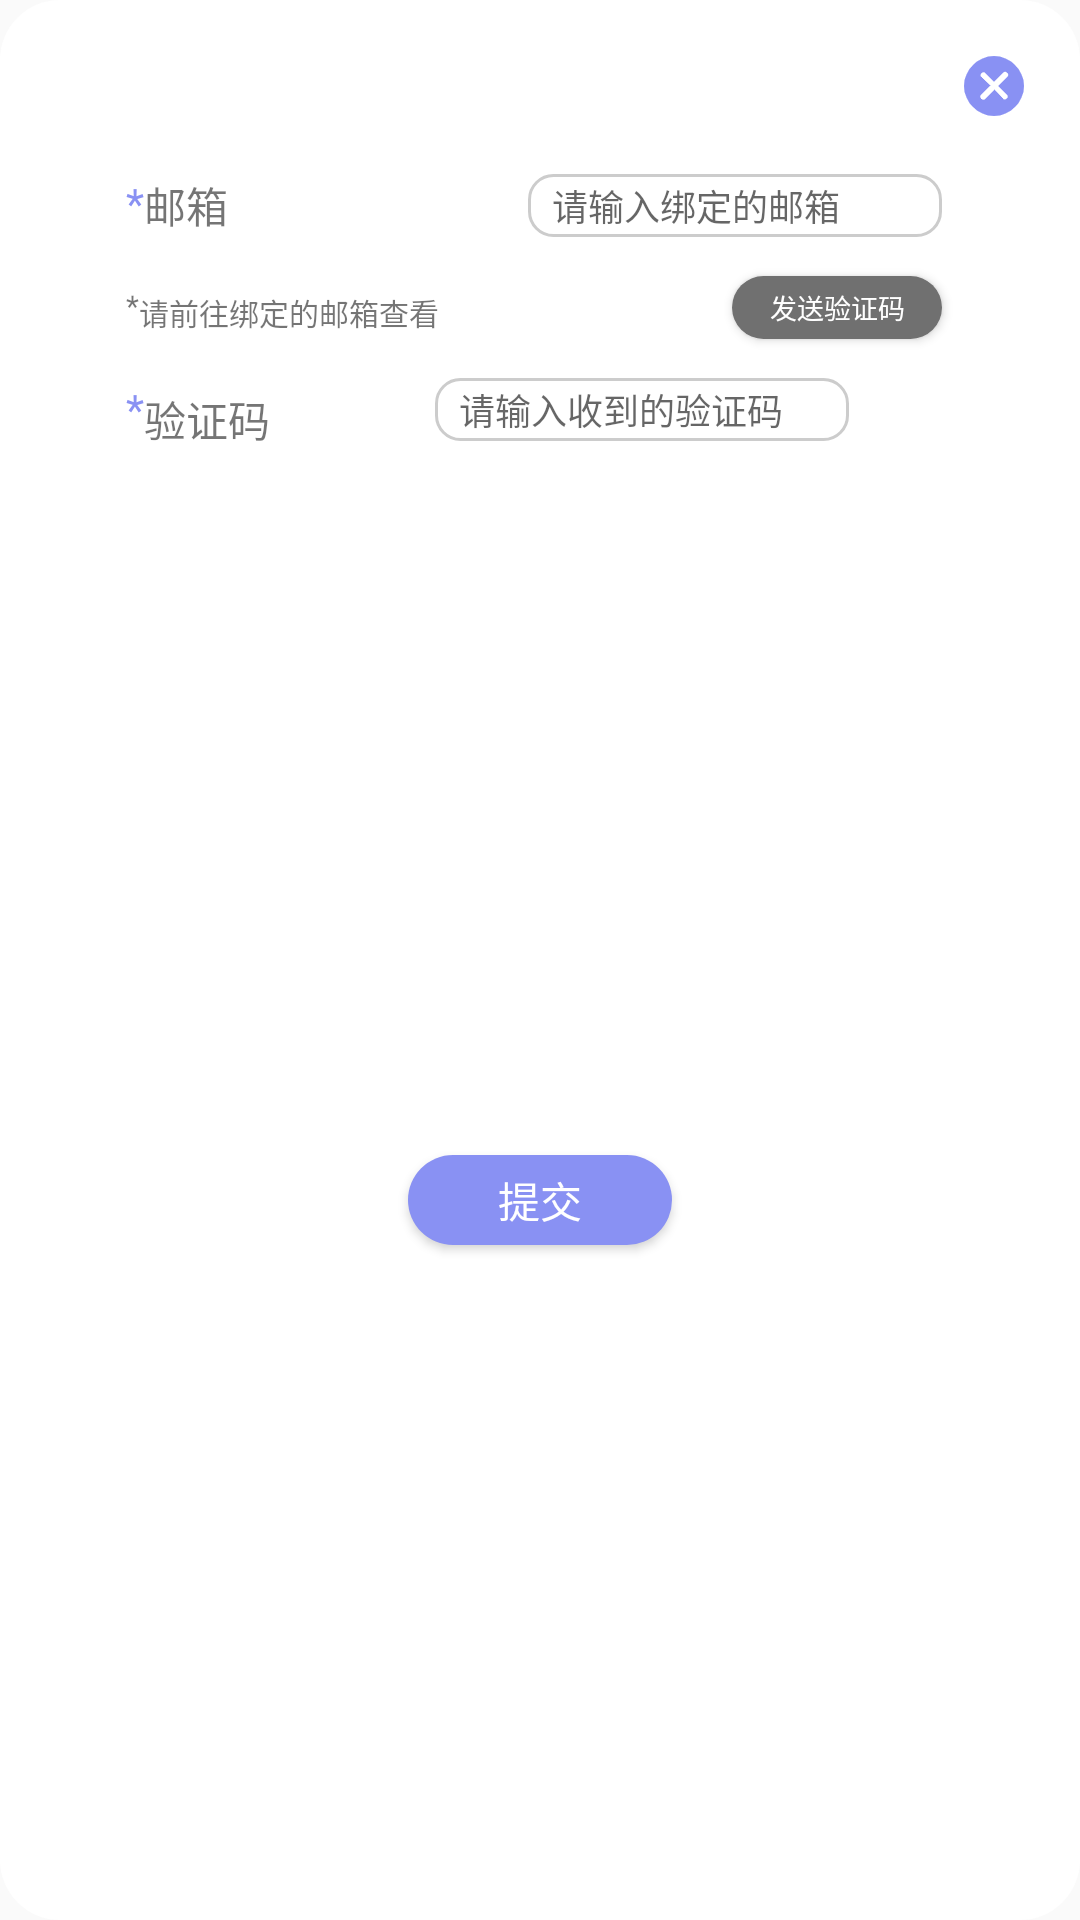

Named icons in this screenshot (1080 x 1920) and their bounding boxes, [x1=x1, y1=y1, x2=x2, y2=y2]:
cancel: [x1=964, y1=56, x2=1024, y2=116]
